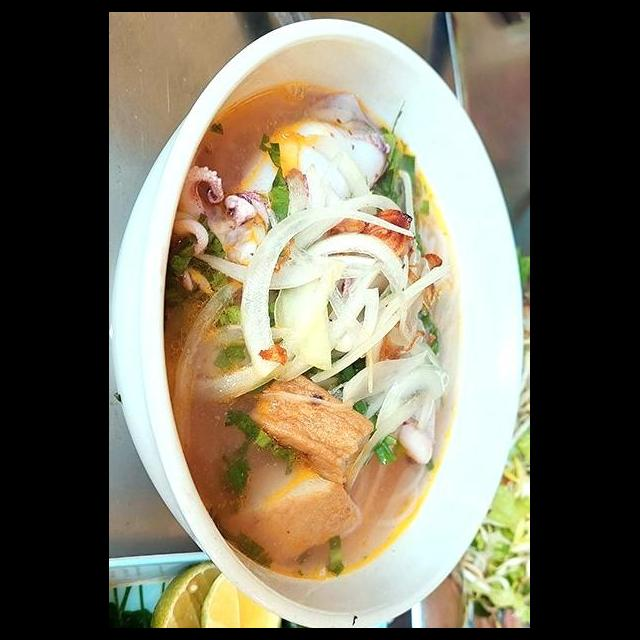dau hu: (224, 451, 370, 565), (244, 369, 378, 491)
muc: (168, 83, 400, 299)
